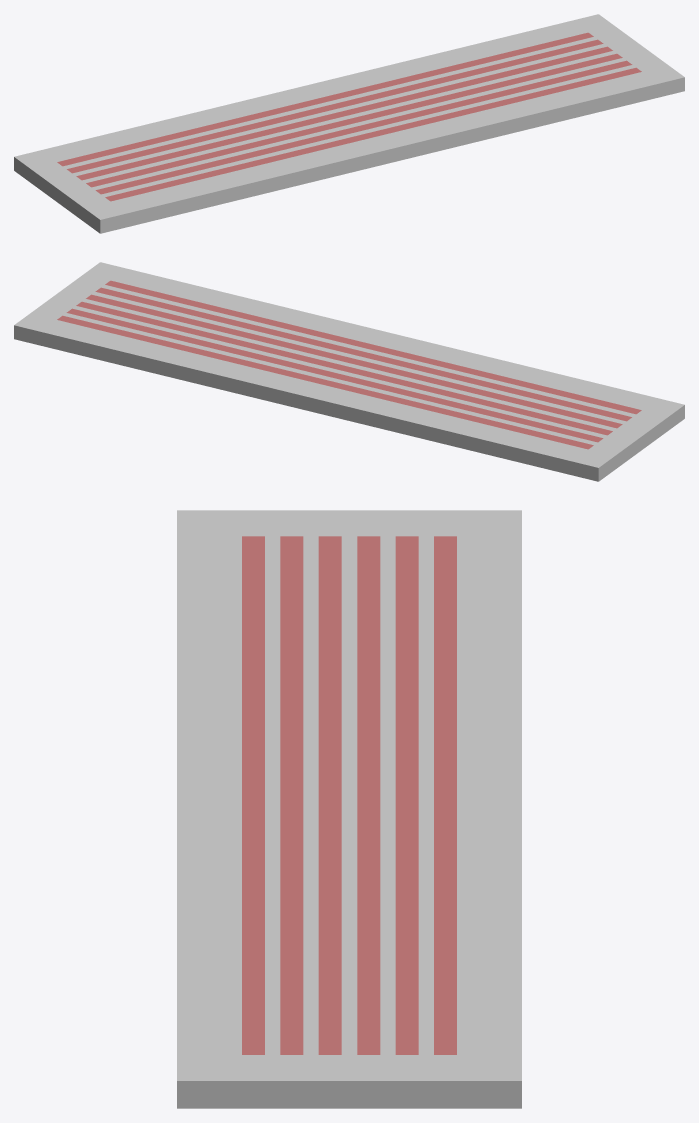
The model's file is step_02.glb.
The picture shows the model from 3 angles, top to bottom: view 1: azimuth 30°, elevation 25°; view 2: azimuth 150°, elevation 25°; view 3: azimuth 270°, elevation 25°; orthographic projection. The views are drawn at different scales.
Parts seen in each view (by area): view 1: part__walkway grating, removed__walkway grating; view 2: part__walkway grating, removed__walkway grating; view 3: part__walkway grating, removed__walkway grating.
Boxes of the visible parts, x1,y1,x2,y2 form: part__walkway grating: (14,14,684,233); removed__walkway grating: (57,32,641,201); part__walkway grating: (14,262,684,481); removed__walkway grating: (57,280,641,449); part__walkway grating: (177,510,521,1108); removed__walkway grating: (242,536,456,1054).
Bounding box in the file's own units: 1760 × 40 × 450.
